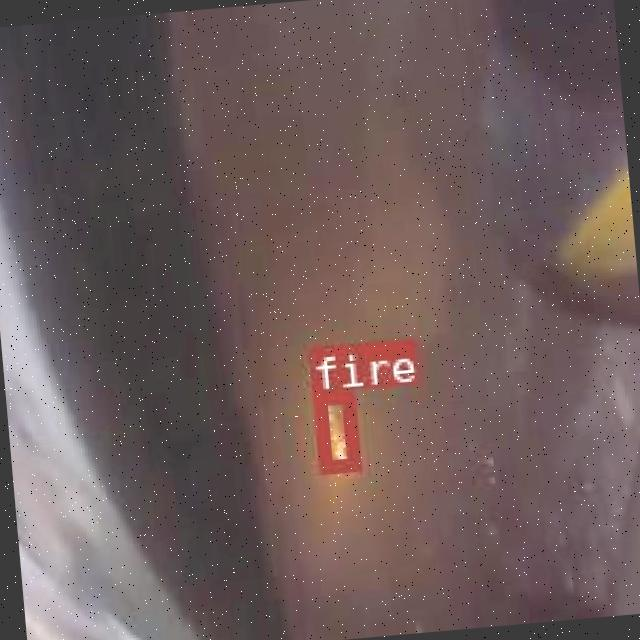fire: (310, 388, 356, 472)
